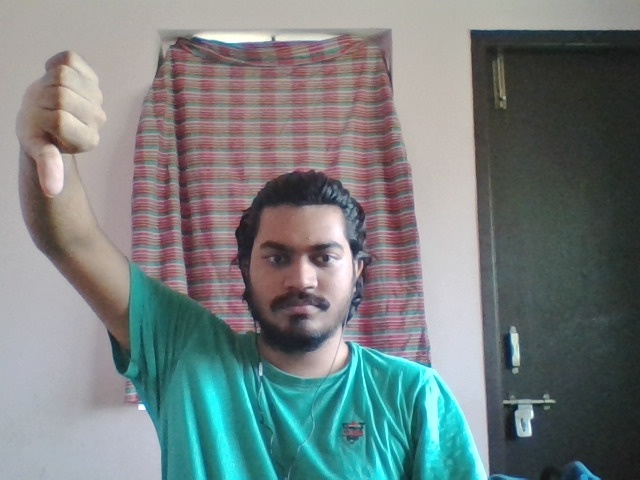ThumbsDown: (16, 50, 106, 198)
